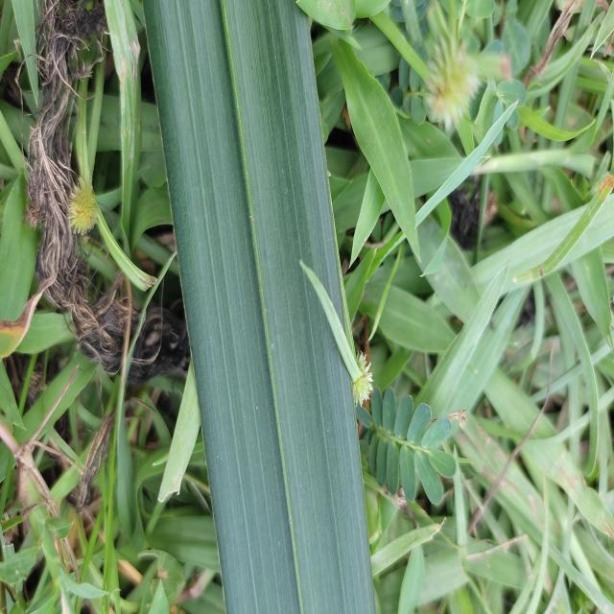Healthy: (151, 0, 378, 614)
